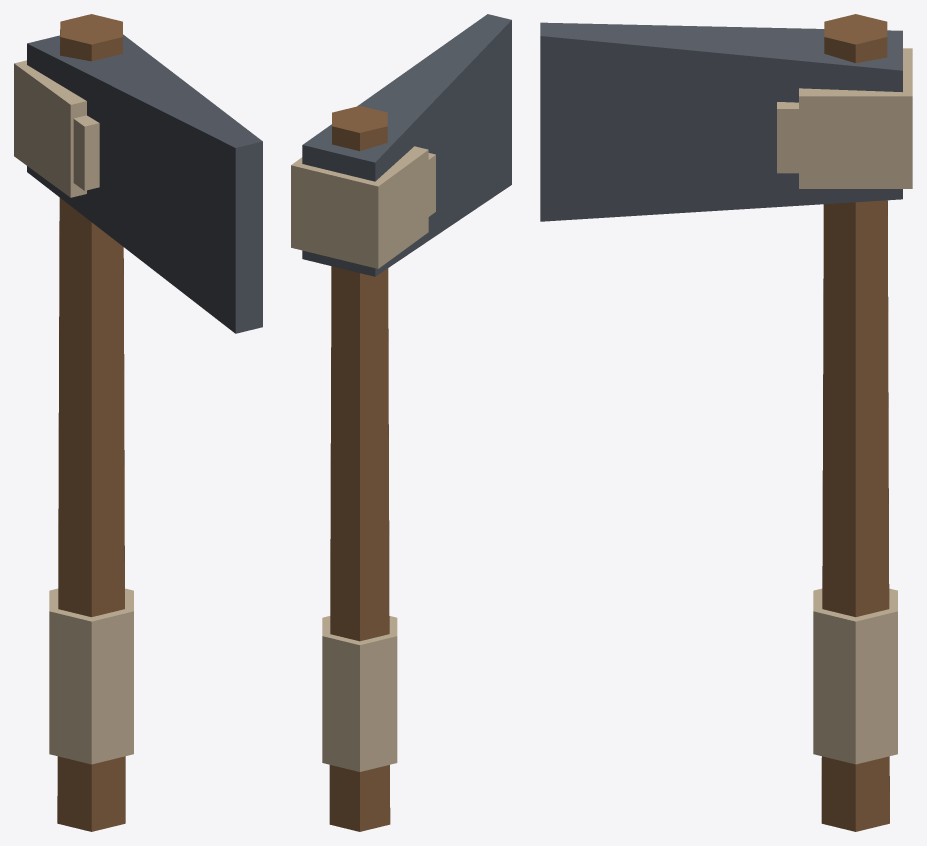
The model's file is stone_axe.glb.
3 views of the same model, side by side, from view 1: azimuth 30°, elevation 25°; view 2: azimuth 150°, elevation 25°; view 3: azimuth 270°, elevation 25° (orthographic). The views are drawn at different scales.
Parts seen in each view (by area): view 1: Blade, Handle; view 2: Handle, Blade; view 3: Blade, Handle.
Boxes of the visible parts, x1=… form: Blade: x1=14, y1=34, x2=262, y2=333; Handle: x1=49, y1=14, x2=133, y2=831; Handle: x1=322, y1=106, x2=397, y2=831; Blade: x1=291, y1=14, x2=511, y2=276; Blade: x1=540, y1=22, x2=912, y2=221; Handle: x1=813, y1=14, x2=897, y2=831.
Size of the model in its own units: 0.072 by 0.55 by 0.236.
